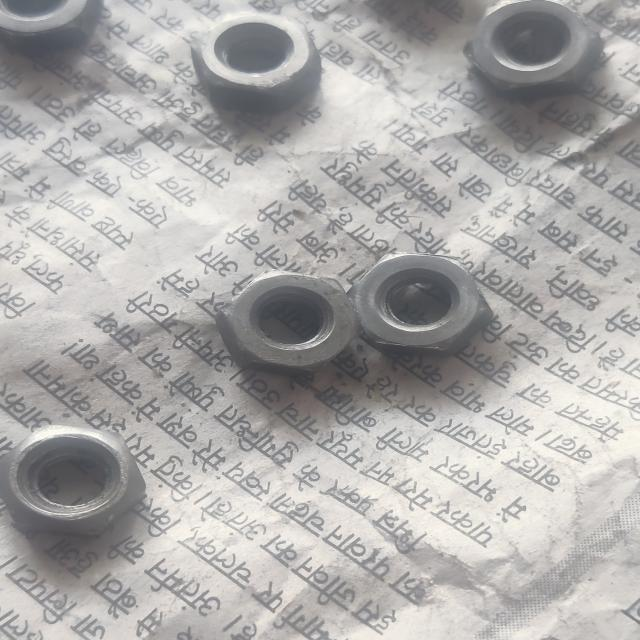disinfected nut: (0, 425, 147, 538), (350, 252, 493, 355), (217, 272, 357, 375), (467, 0, 603, 100), (190, 12, 323, 112)
